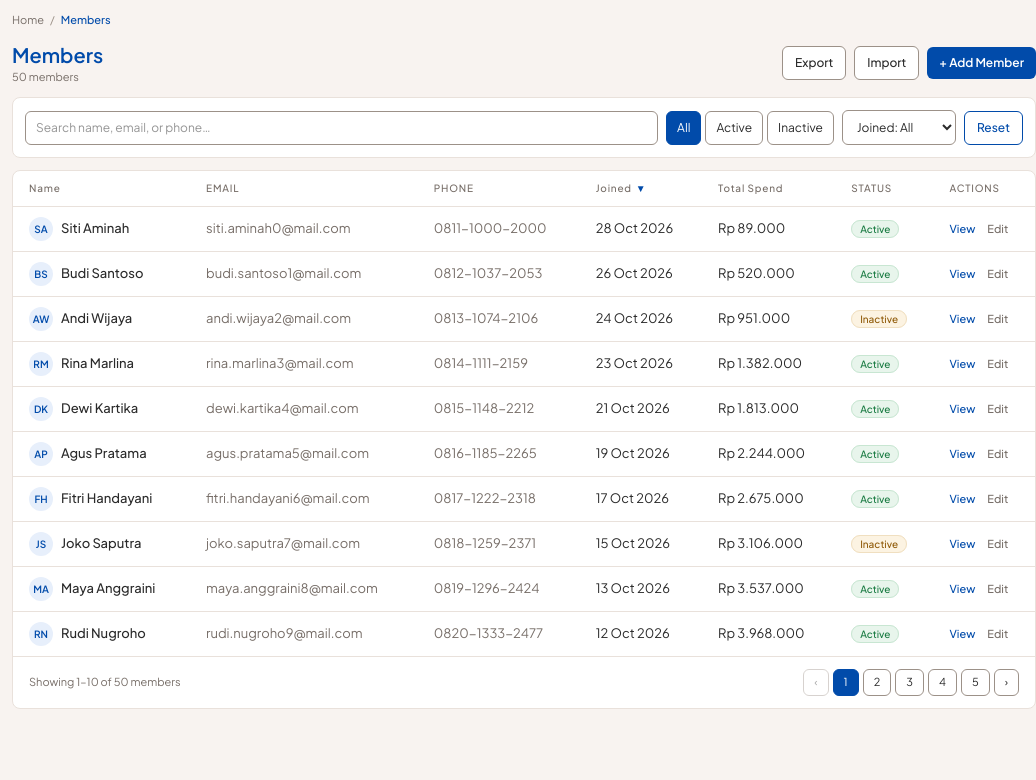
it: member page › resets all filters and cancels a pending search
Type "zzzz" into the search field named "Search members" at (342, 128), box top-left (25, 110), bottom-right (658, 144)
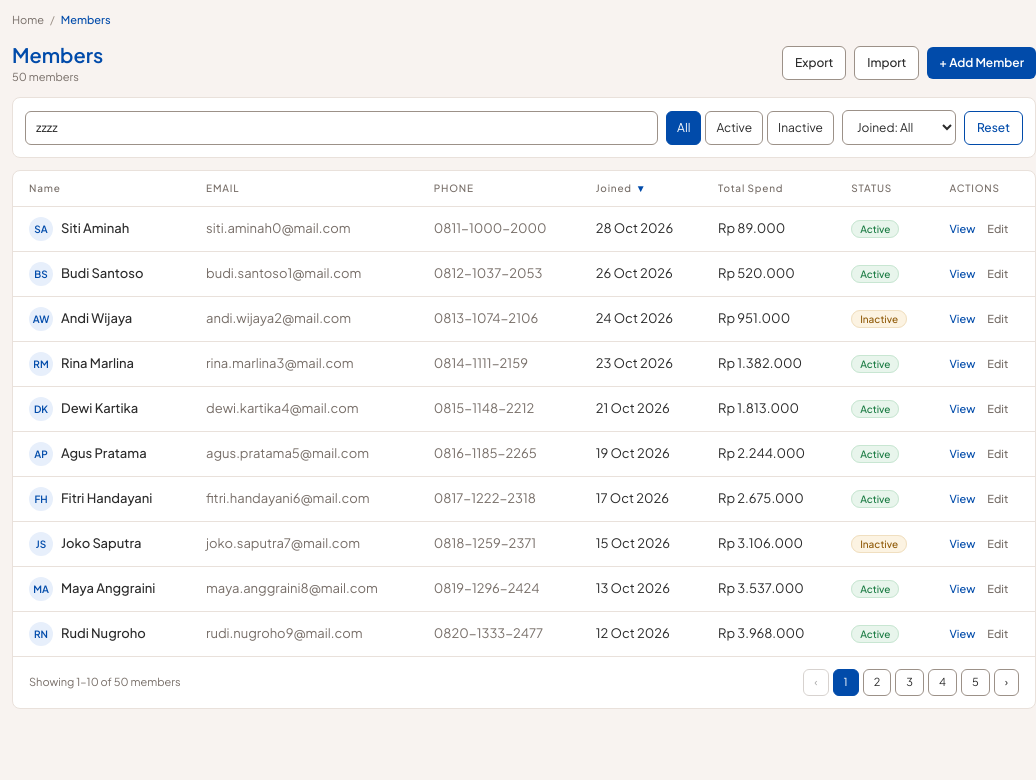
Click the button "Reset" at (994, 128), box top-left (964, 110), bottom-right (1023, 144)
Wait 250 ms
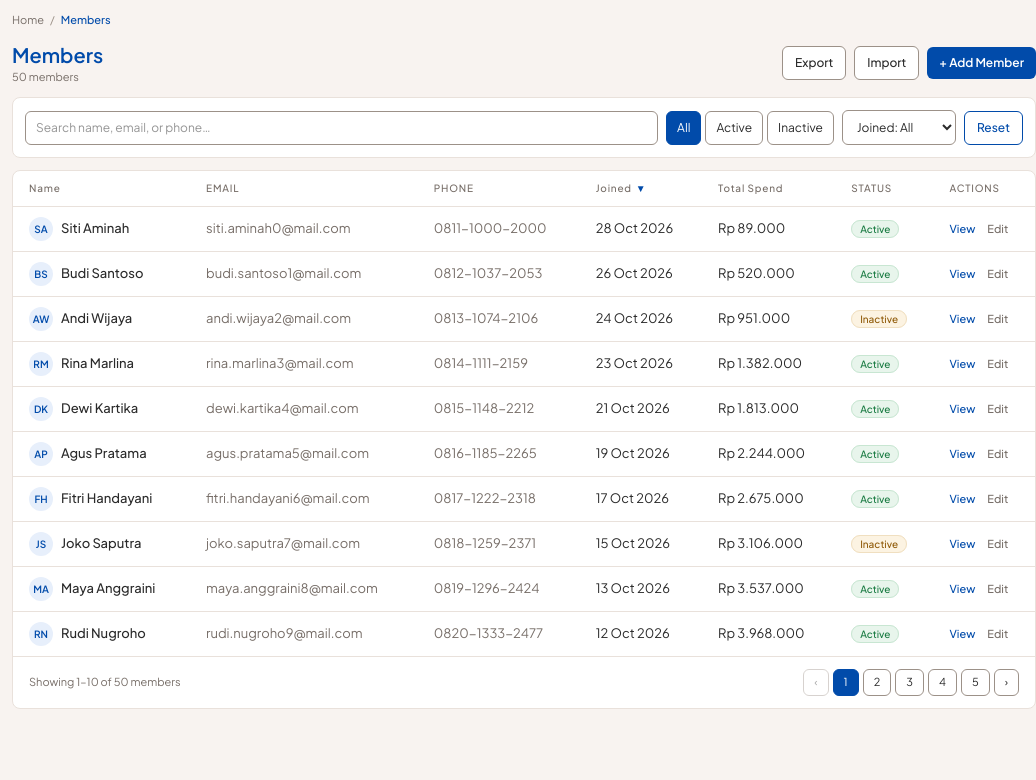
Expected: the search field named "Search members" is empty, top-left (25, 110), bottom-right (658, 144)
